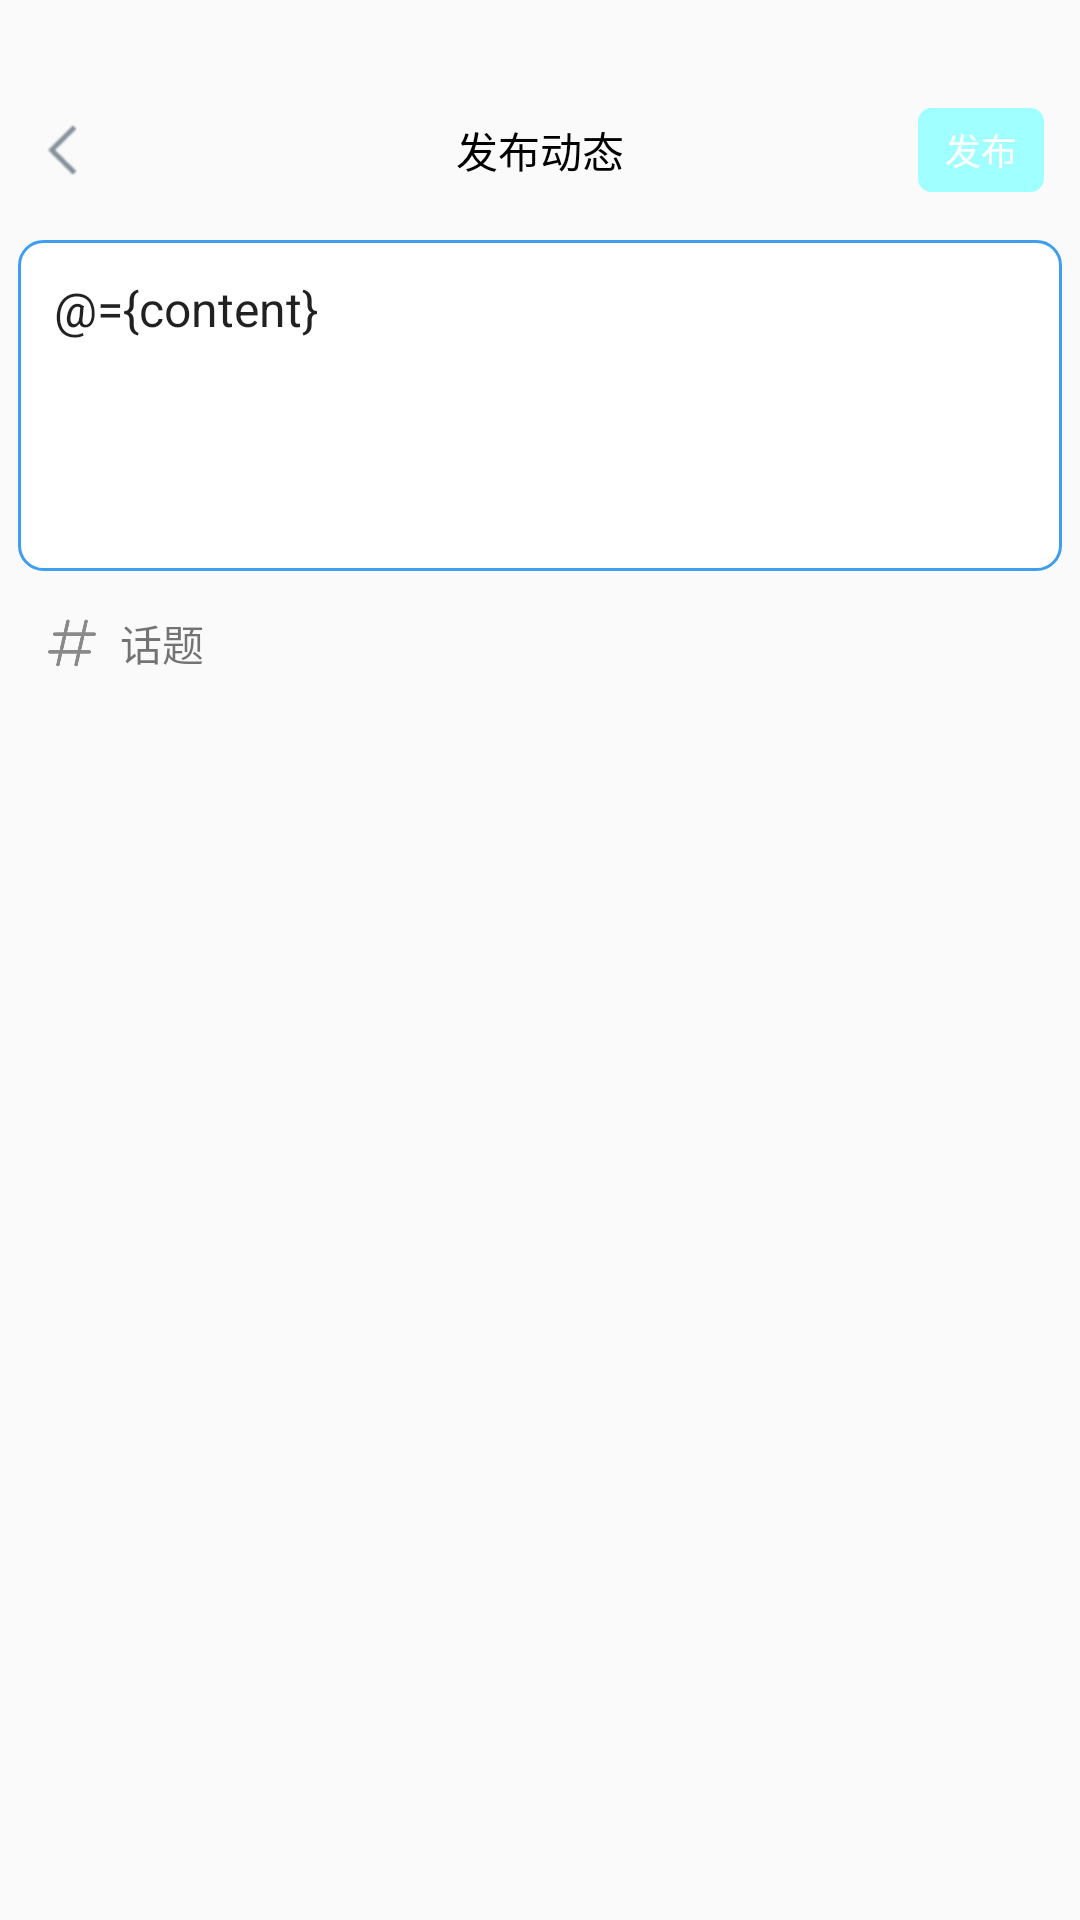

Icon bounding boxes for this 1080 × 1920 phone screenshot, format BBox(x1, y1, x2, y2):
back: BBox(48, 125, 76, 175)
